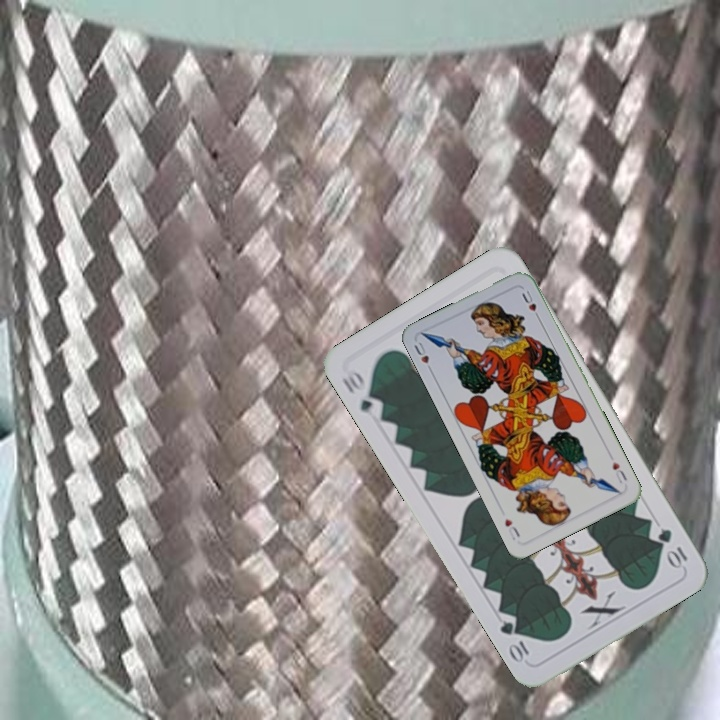G10: (337, 364, 386, 418), (654, 524, 690, 571)
HU: (410, 338, 434, 376), (608, 458, 630, 486)
